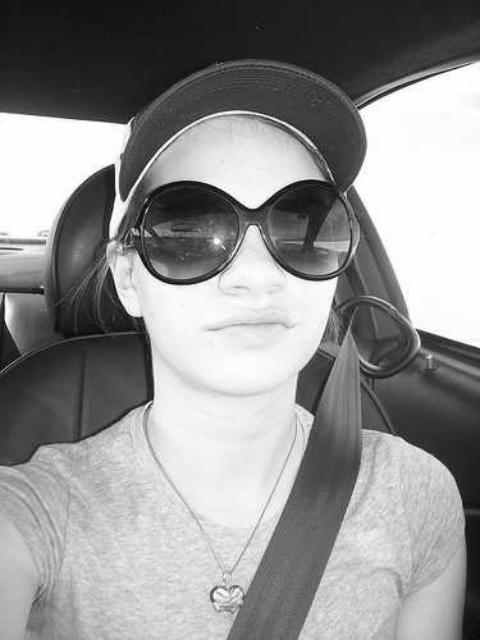Seatbelt: (221, 298, 368, 640)
